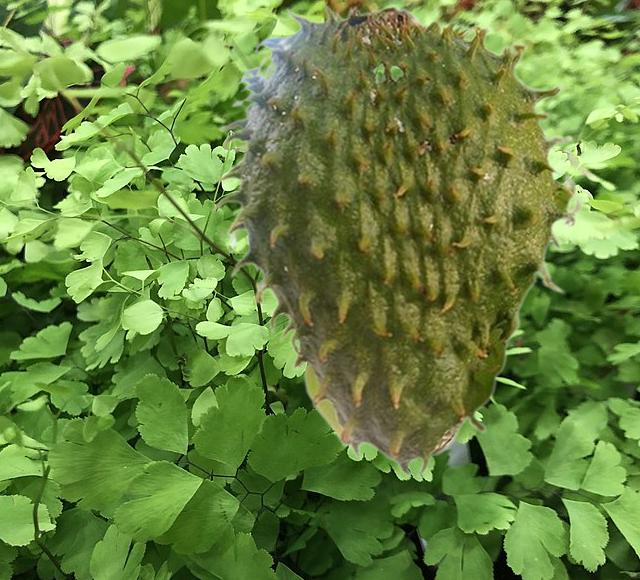guyabano: (211, 3, 596, 476)
